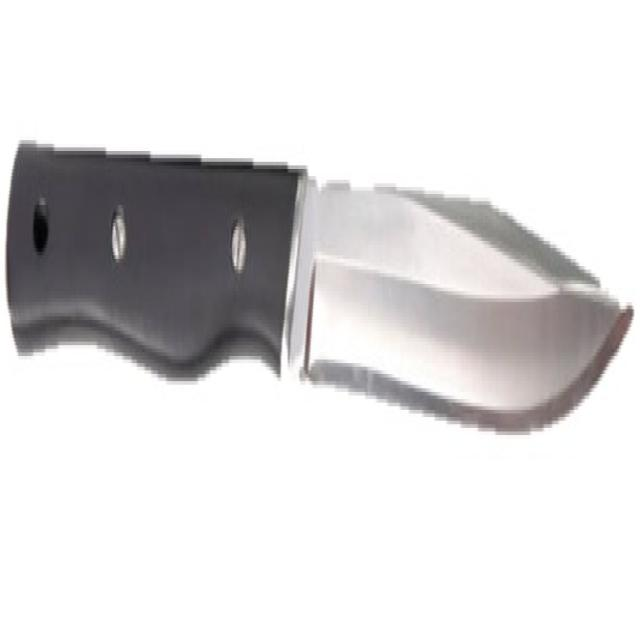knife: (7, 120, 633, 440)
